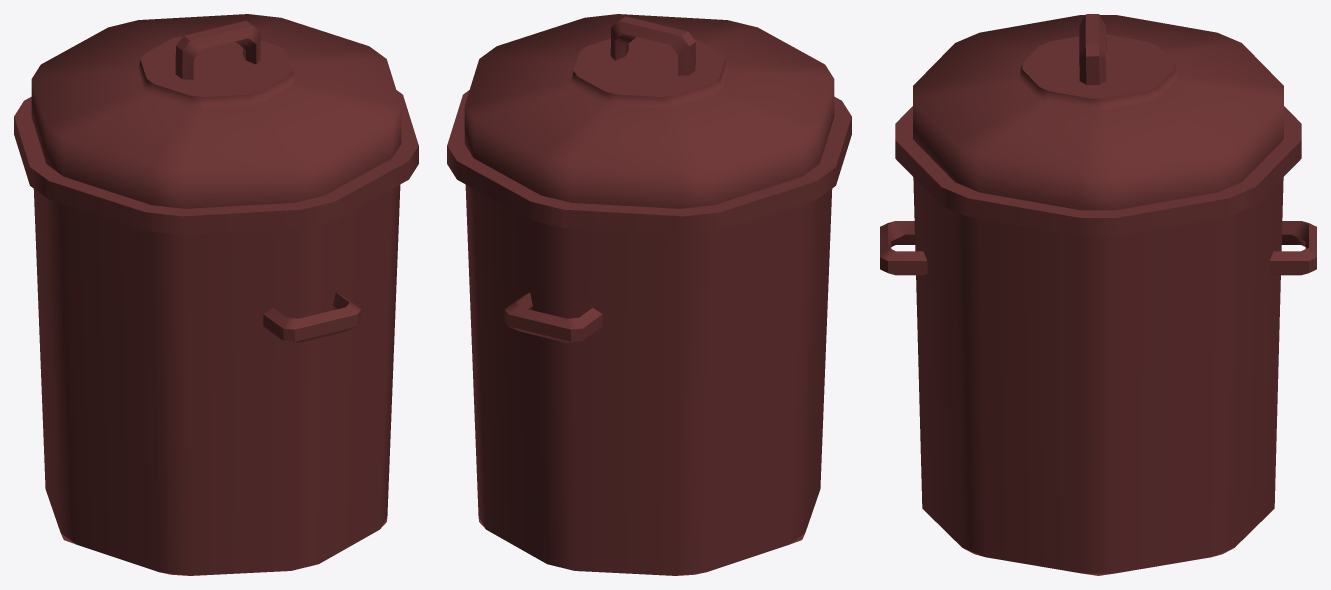
File: KitchenBin.fbx
3 renders of one model, left to right at view 1: azimuth 30°, elevation 25°; view 2: azimuth 150°, elevation 25°; view 3: azimuth 270°, elevation 25°, orthographic.
Visible parts, largest first — view 1: Bin; view 2: Bin; view 3: Bin.
Part boxes in pixels (<box>): Bin: <box>14,14,418,575</box>; Bin: <box>447,14,851,575</box>; Bin: <box>880,14,1316,575</box>.
Size of the model in its own units: 5.27 by 6.76 by 5.67.
